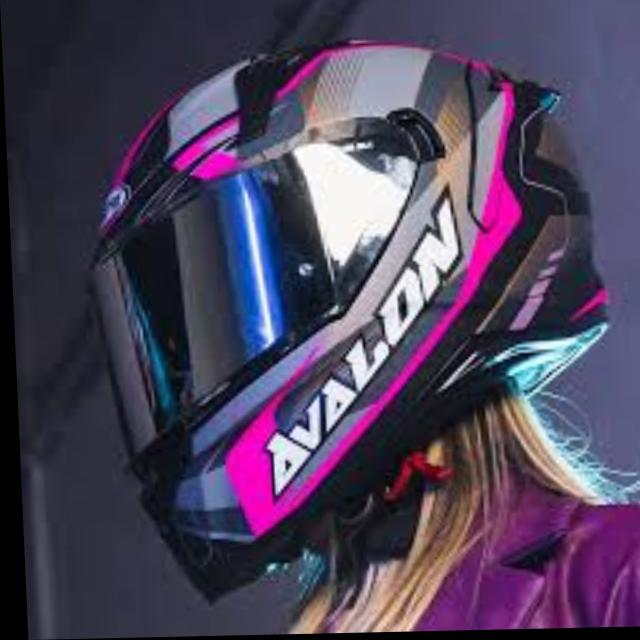motorcycle-helmets: (95, 41, 604, 579)
